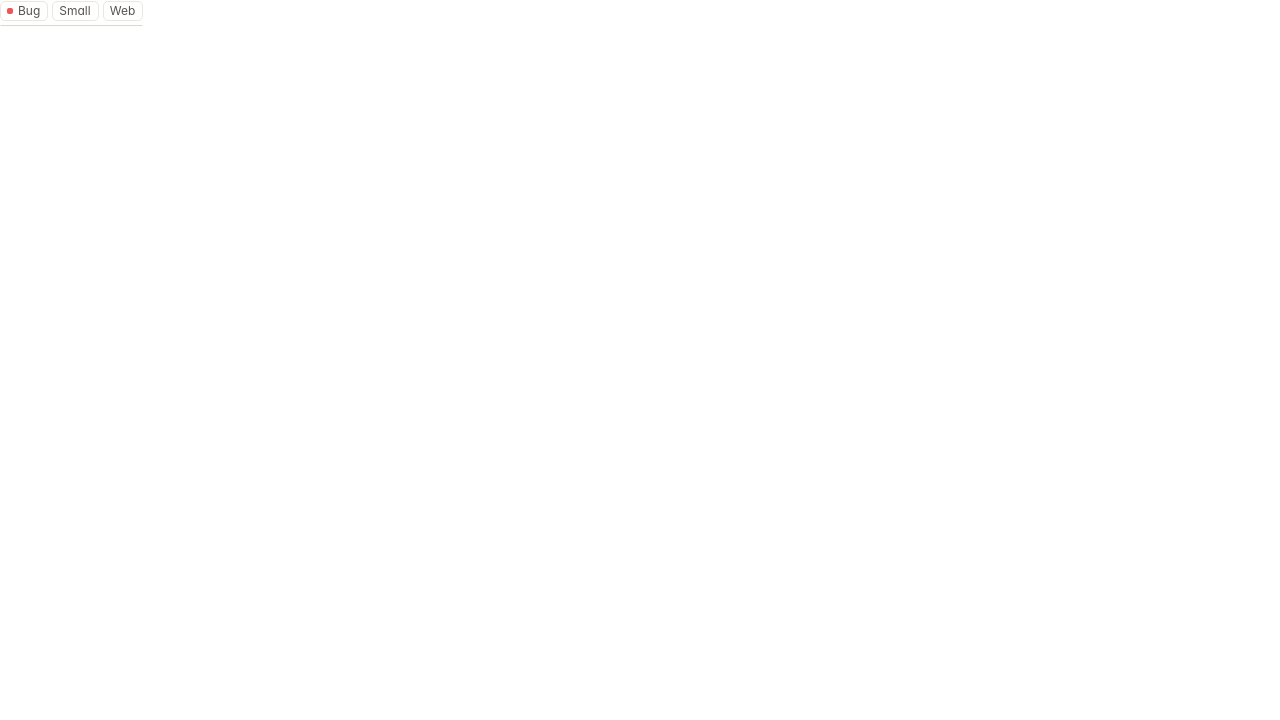
Test: LabelPicker › grouped, coloured, and a one-label group swaps its label
Later steps or results of the test are not shown.
What coordinates should you click on to do the following:
click the button with aria-label "Labels: Bug, Small, Web"
I would click on:
 (72, 11)
Its box is [0,0,143,22].
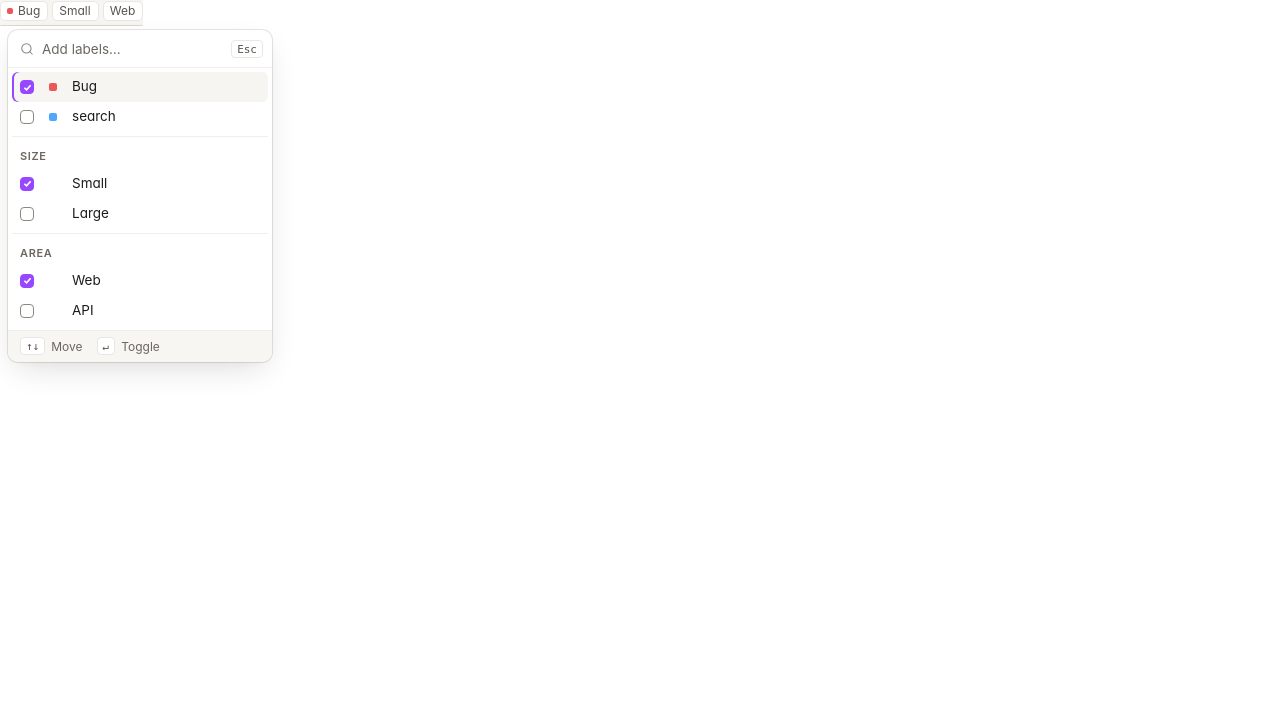
Check: the element "Size" is shown, box [12,136,268,229]
Check: the element "Area" is shown, box [12,233,268,326]
